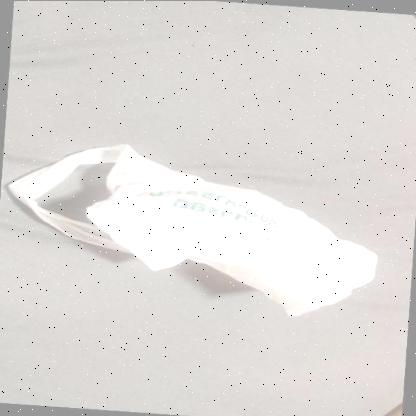Others: (1, 141, 376, 318)
